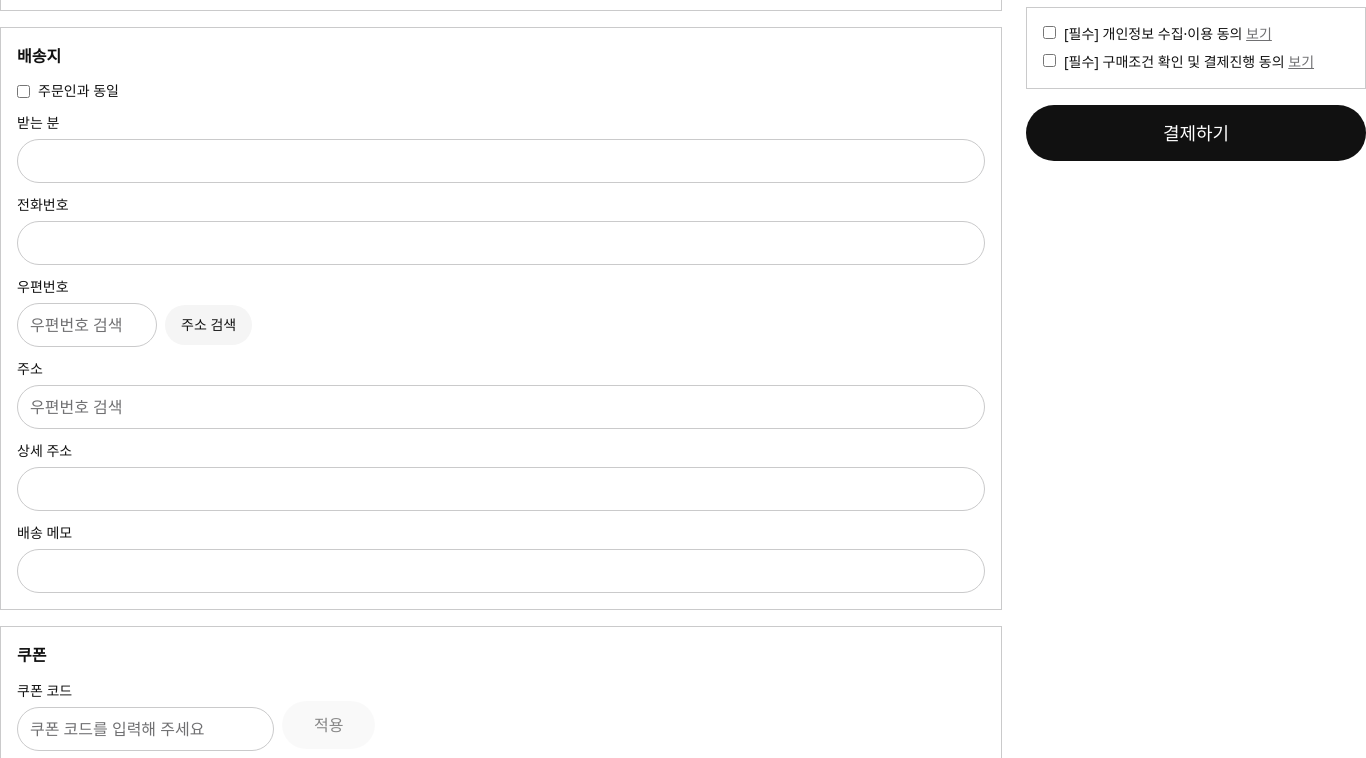
<CheckoutClient> 쿠폰 (FS-X-04, ADR-026) › 적용 성공 — validate 에 subtotal/payable 전달, 할인 행 + 해제 버튼 표시
(page scrolled)
Type "welcome5" into the field with test id "coupon-input" at (146, 729), box [17,707,274,751]
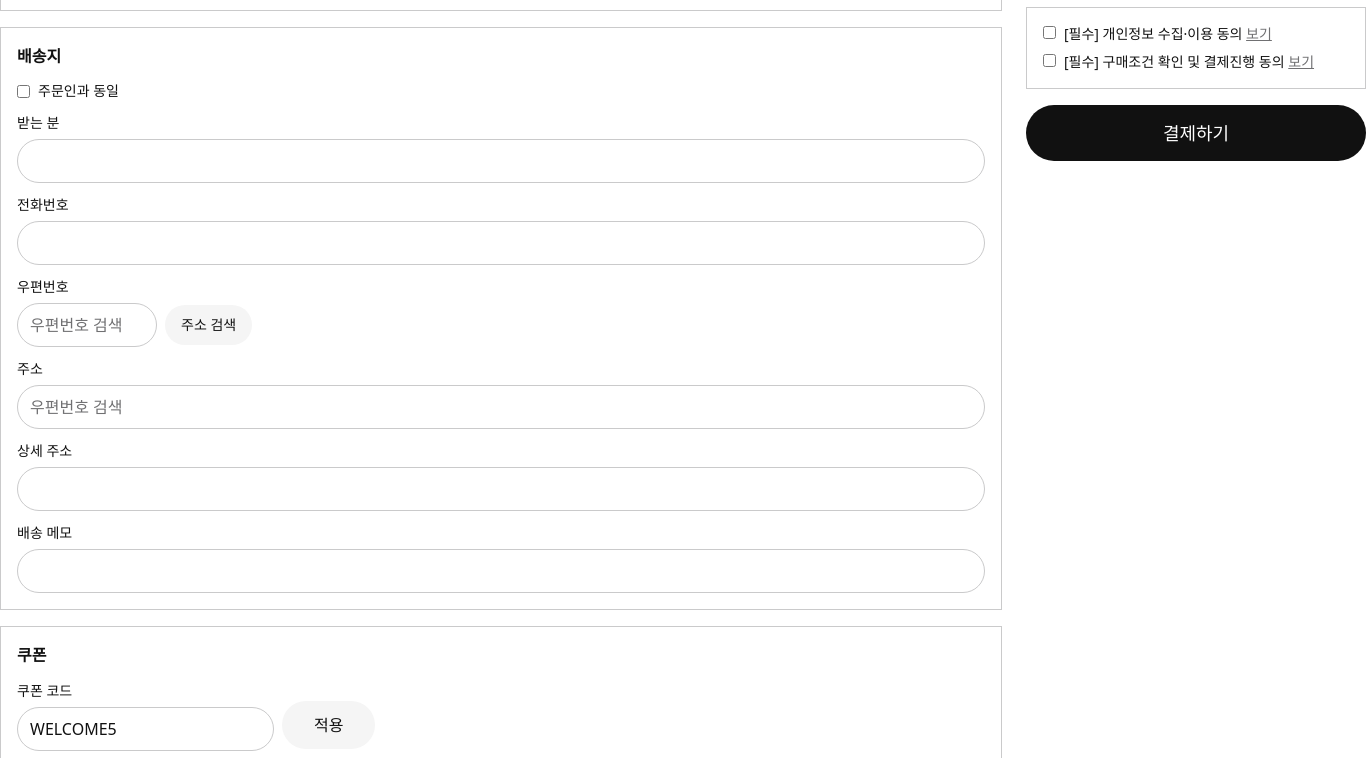
Click the button with test id "coupon-apply" at (329, 725), box [282,701,376,749]
(page scrolled)
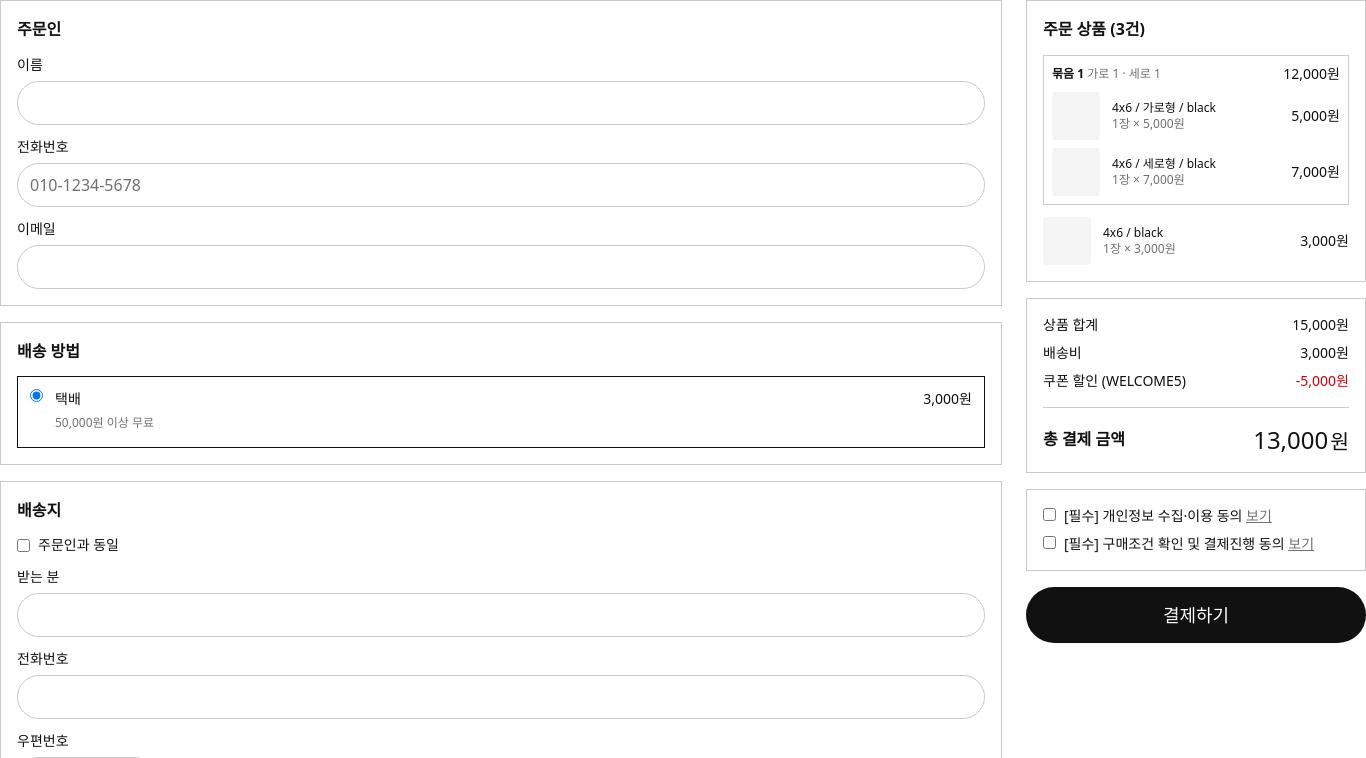
Now the element with test id "coupon-row" shows "쿠폰 할인 (WELCOME5)", box [1043,371,1349,391]
Now the element with test id "coupon-row" shows "-5,000원", box [1043,371,1349,391]
